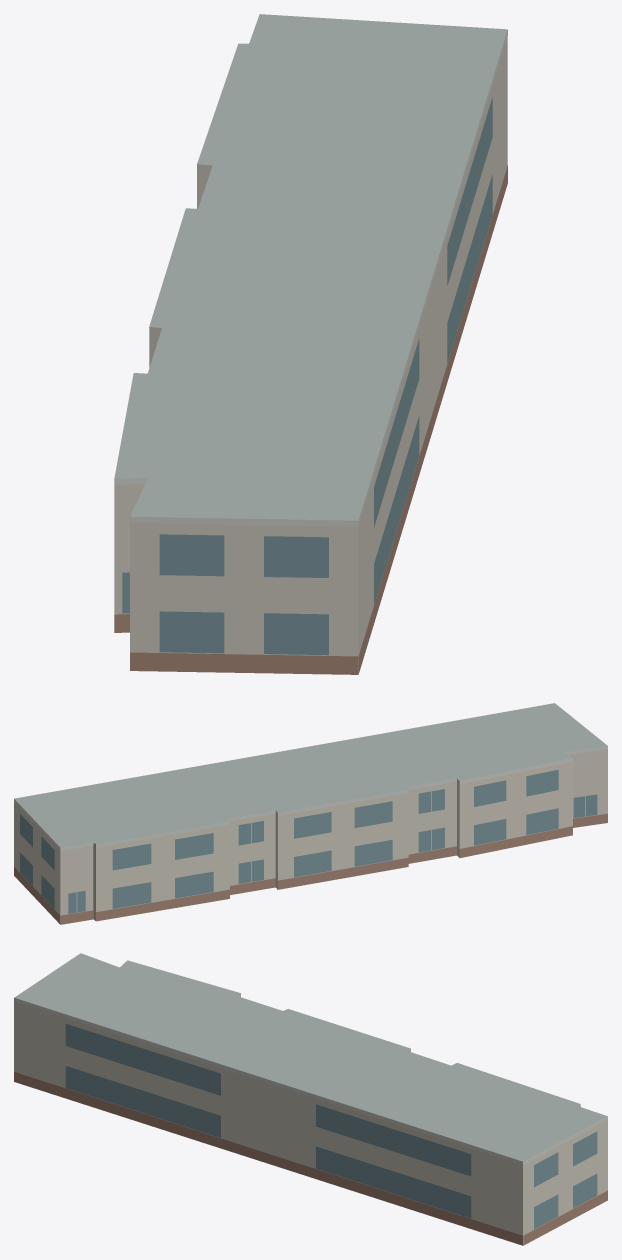
The model's file is survey-upis-32723044.glb.
The picture shows the model from 3 angles, top to bottom: view 1: azimuth 30°, elevation 25°; view 2: azimuth 150°, elevation 25°; view 3: azimuth 270°, elevation 25°; orthographic projection. The views are drawn at different scales.
Visible parts, largest first — view 1: survey-upis-32723044.tmp; view 2: survey-upis-32723044.tmp; view 3: survey-upis-32723044.tmp.
Boxes of the visible parts, x1,y1,x2,y2 form: survey-upis-32723044.tmp: (114,14,507,674); survey-upis-32723044.tmp: (14,703,607,924); survey-upis-32723044.tmp: (14,953,607,1245).
Bounding box in the file's own units: 32.42 × 6.1 × 39.01.
